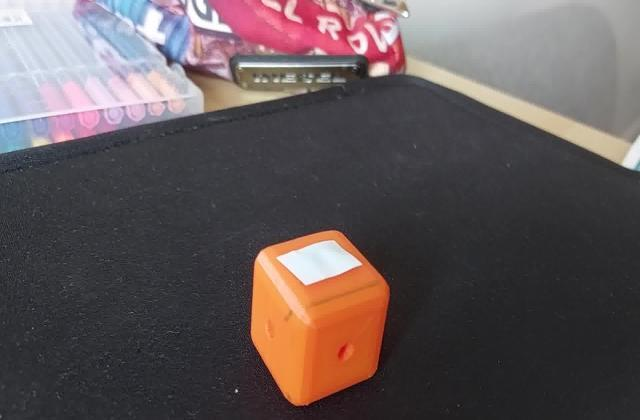cube: (245, 222, 392, 406)
white: (280, 245, 352, 292)
